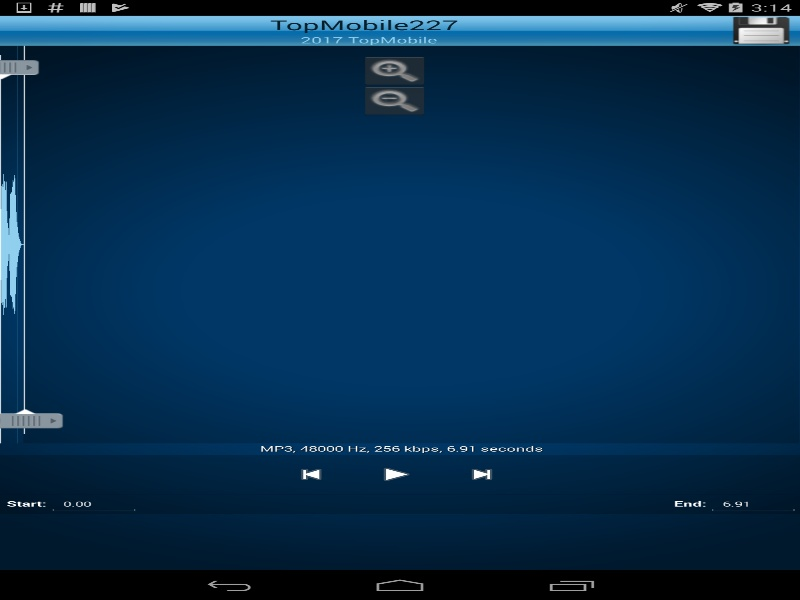Button: (268, 458, 354, 490), (354, 458, 439, 490), (439, 458, 524, 490), (360, 54, 429, 86), (360, 84, 429, 116), (729, 15, 793, 45)
Input: (706, 494, 800, 513), (47, 494, 140, 513)
